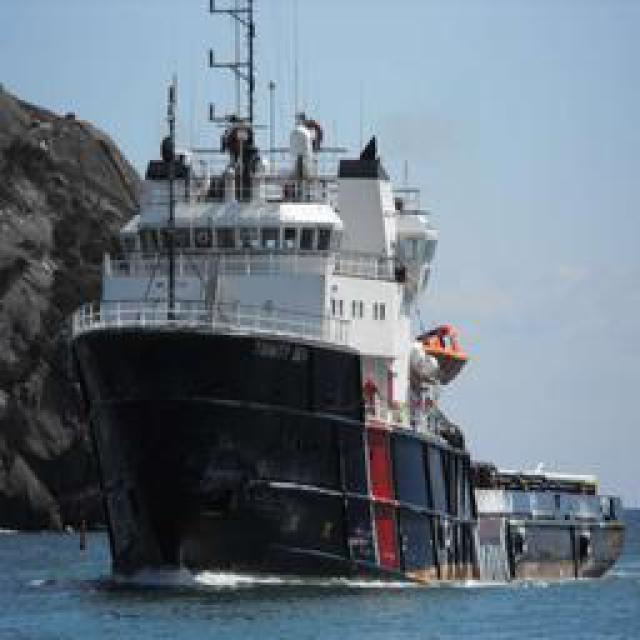Ship: (57, 45, 490, 588)
